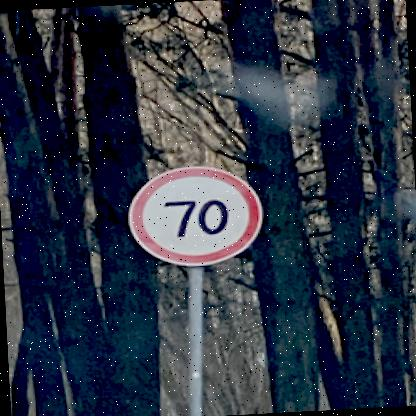speedlimit: (122, 162, 259, 267)
